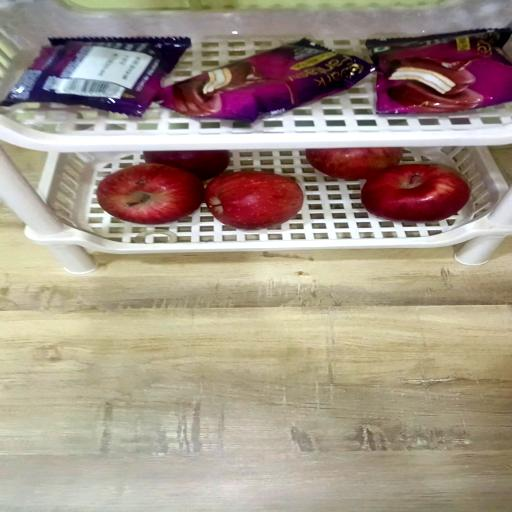Apple: (96, 166, 203, 227), (361, 166, 469, 224), (207, 173, 304, 232), (306, 146, 404, 179), (144, 151, 232, 183)
Choco Pie: (160, 38, 376, 123), (0, 36, 189, 117), (366, 27, 510, 115)
